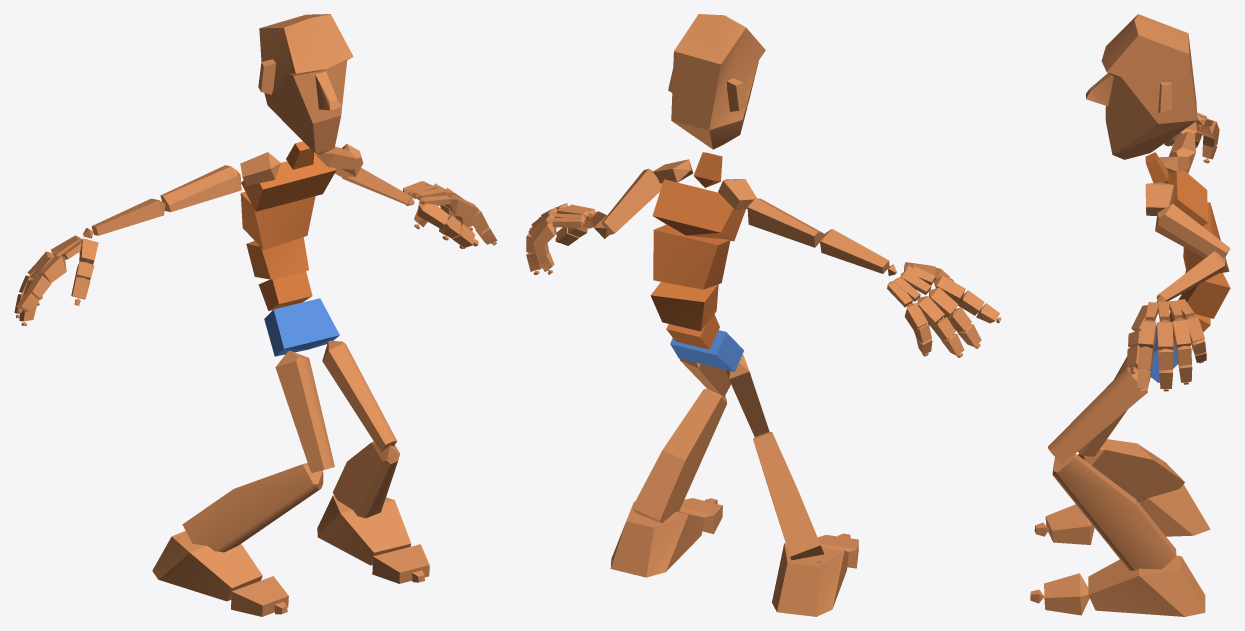
The picture shows the model from 3 angles, left to right: view 1: azimuth 30°, elevation 25°; view 2: azimuth 150°, elevation 25°; view 3: azimuth 270°, elevation 25°; orthographic projection.
Visible parts, largest first — view 1: BOPED_Head, BOPED_R_leg, BOPED_R_foot, BOPED_R_foot01, BOPED_R_legup, BOPED_L_leg, Bone01, BOPED_L_legup, Bone04, Bone05, BOPED_R_arm_upper, Bone03 (+6 smaller); view 2: BOPED_Head, BOPED_L_leg, BOPED_R_foot01, BOPED_R_foot, Bone04, Bone05, BOPED_R_leg, Bone03, BOPED_R_arm_upper, BOPED_L_arm_upper, Bone01, BOPED_R_arm_fore (+8 smaller); view 3: BOPED_Head, BOPED_L_leg, BOPED_R_foot01, BOPED_R_leg, BOPED_L_legup, BOPED_R_foot, BOPED_L_arm_upper, BOPED_R_foot_toe04, BOPED_R_foot_toe01, Bone05, Bone03, BOPED_L_arm_fore (+14 smaller).
Part boxes in pixels (<box>): BOPED_Head: <box>258,14,353,154</box>; BOPED_R_leg: <box>182,463,323,552</box>; BOPED_R_foot: <box>152,531,262,601</box>; BOPED_R_foot01: <box>317,495,411,565</box>; BOPED_R_legup: <box>275,351,334,472</box>; BOPED_L_leg: <box>332,441,399,518</box>; Bone01: <box>264,298,339,356</box>; BOPED_L_legup: <box>322,340,396,451</box>; Bone04: <box>240,191,315,249</box>; Bone05: <box>241,153,336,211</box>; BOPED_R_arm_upper: <box>160,165,241,211</box>; Bone03: <box>246,237,308,279</box>; BOPED_Head: <box>668,14,765,149</box>; BOPED_L_leg: <box>632,388,727,523</box>; BOPED_R_foot01: <box>610,501,704,577</box>; BOPED_R_foot: <box>772,543,848,616</box>; Bone04: <box>653,224,730,289</box>; Bone05: <box>652,179,745,241</box>; BOPED_R_leg: <box>753,432,823,560</box>; Bone03: <box>650,282,718,331</box>; BOPED_R_arm_upper: <box>747,198,823,247</box>; BOPED_L_arm_upper: <box>601,168,662,234</box>; Bone01: <box>670,330,743,371</box>; BOPED_R_arm_fore: <box>819,229,889,273</box>; BOPED_Head: <box>1086,14,1197,159</box>; BOPED_L_leg: <box>1052,453,1176,570</box>; BOPED_R_foot01: <box>1088,555,1205,616</box>; BOPED_R_leg: <box>1078,439,1184,502</box>; BOPED_L_legup: <box>1048,367,1147,463</box>; BOPED_R_foot: <box>1139,484,1210,536</box>; BOPED_L_arm_upper: <box>1155,203,1230,258</box>; BOPED_R_foot_toe04: <box>1044,573,1089,615</box>; BOPED_R_foot_toe01: <box>1045,504,1094,544</box>; Bone05: <box>1167,170,1208,226</box>; Bone03: <box>1181,270,1230,318</box>; BOPED_L_arm_fore: <box>1156,251,1225,301</box>.
Size of the model in its own units: 157 by 172 by 56.5.
